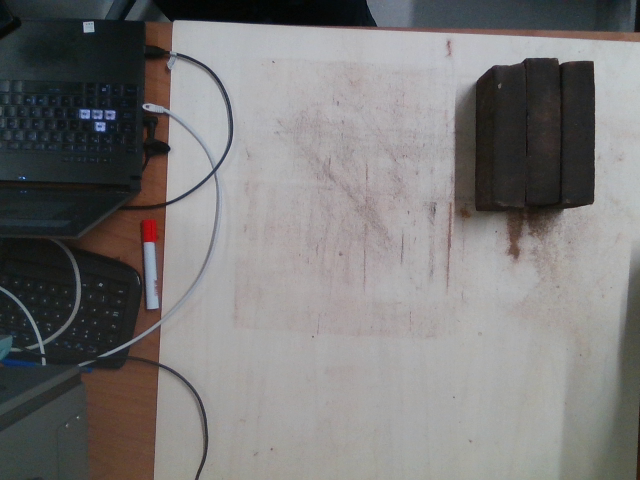brick-side: (525, 60, 560, 200), (562, 61, 596, 201), (492, 64, 526, 204)
